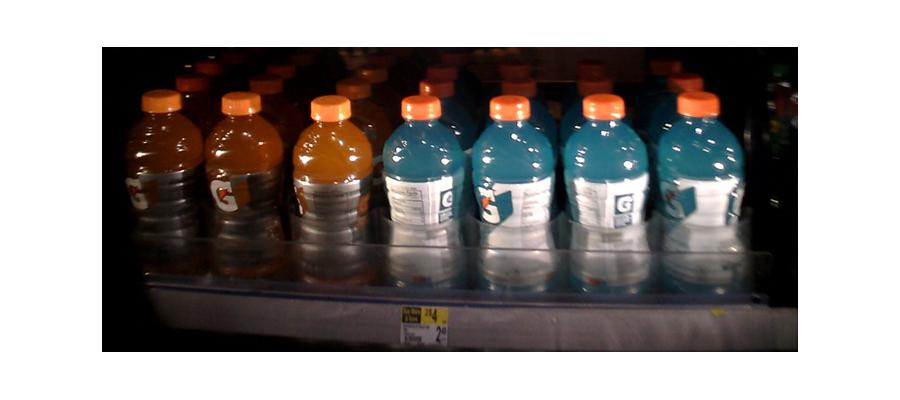bottle: (657, 92, 746, 307), (563, 96, 654, 303), (382, 94, 466, 295), (474, 96, 555, 299), (204, 91, 284, 287), (291, 95, 369, 294), (124, 89, 200, 276)
